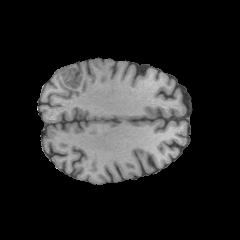glioma: (52, 65, 93, 92)
